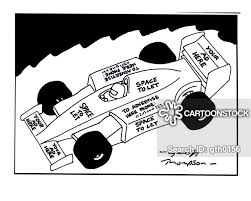FormulaOneCar: (17, 29, 233, 168)
